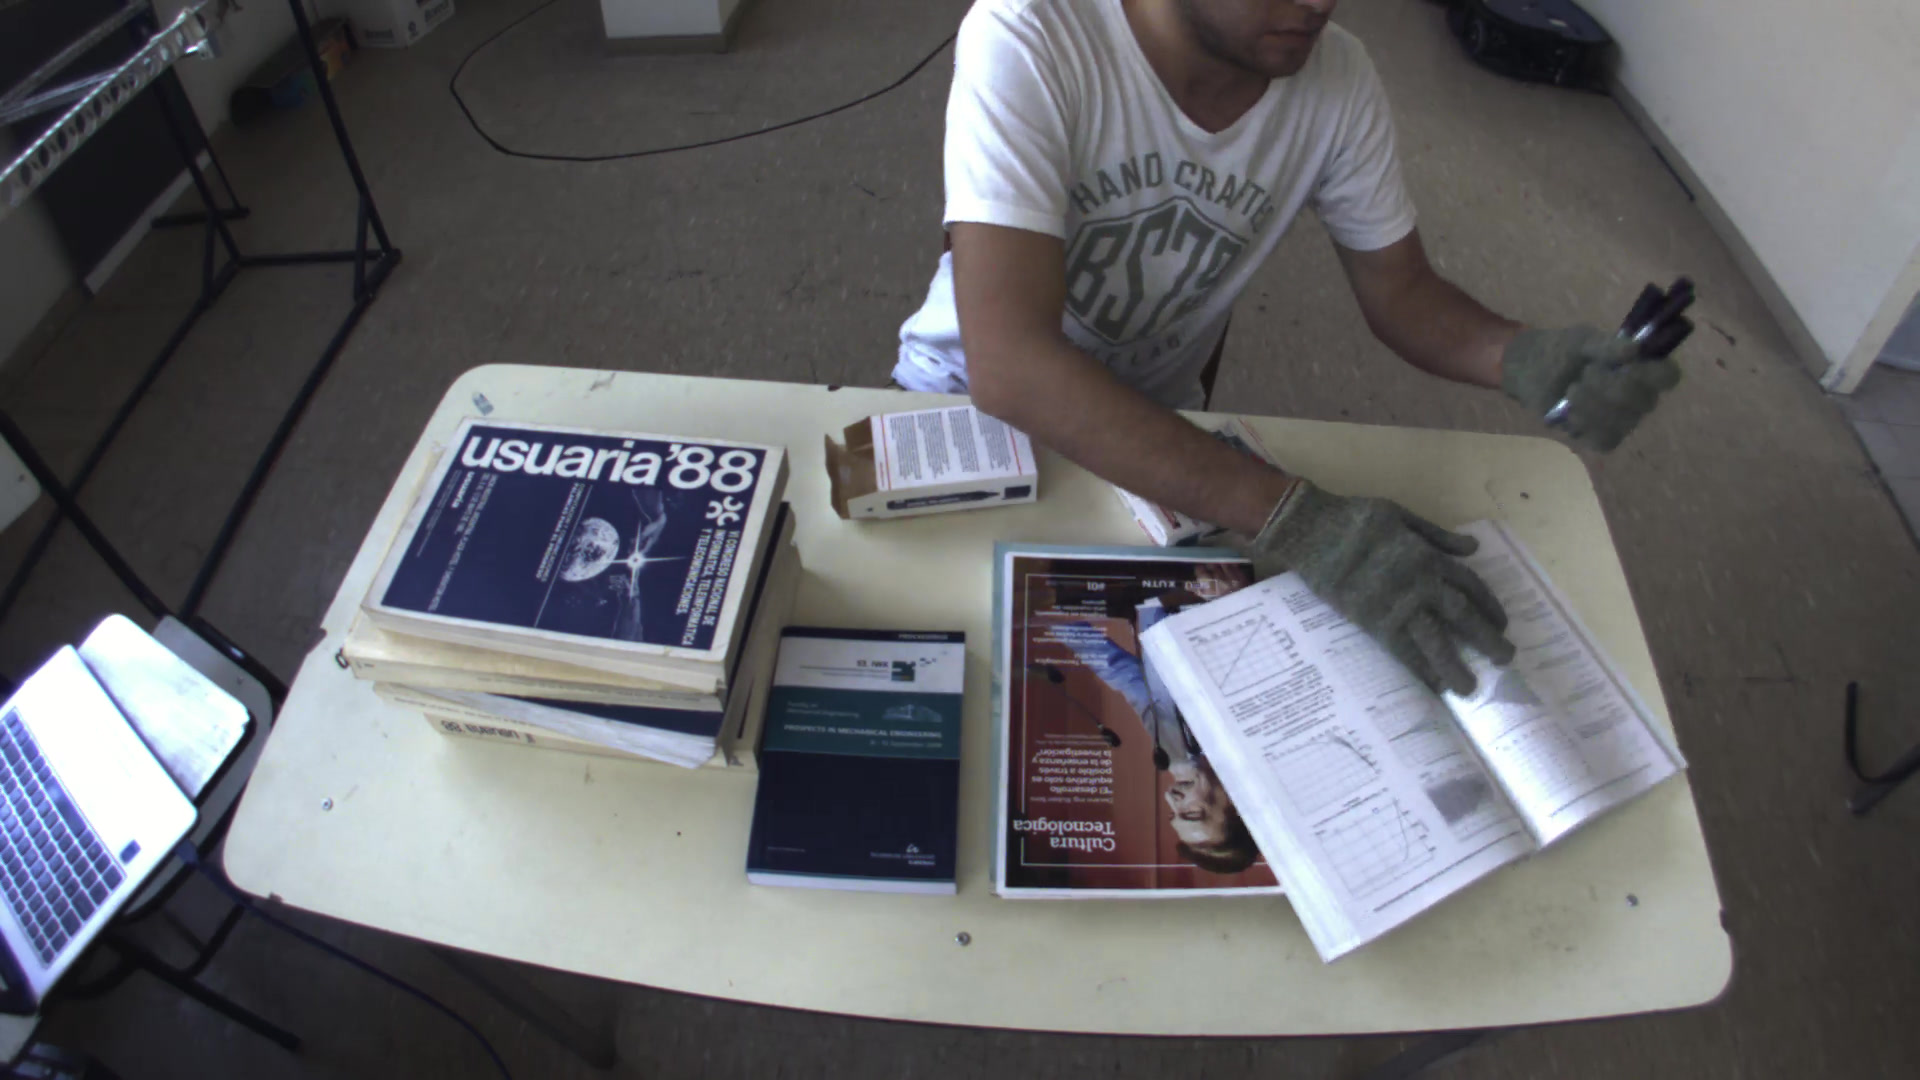hand: (1267, 481, 1522, 665), (1495, 301, 1695, 454)
